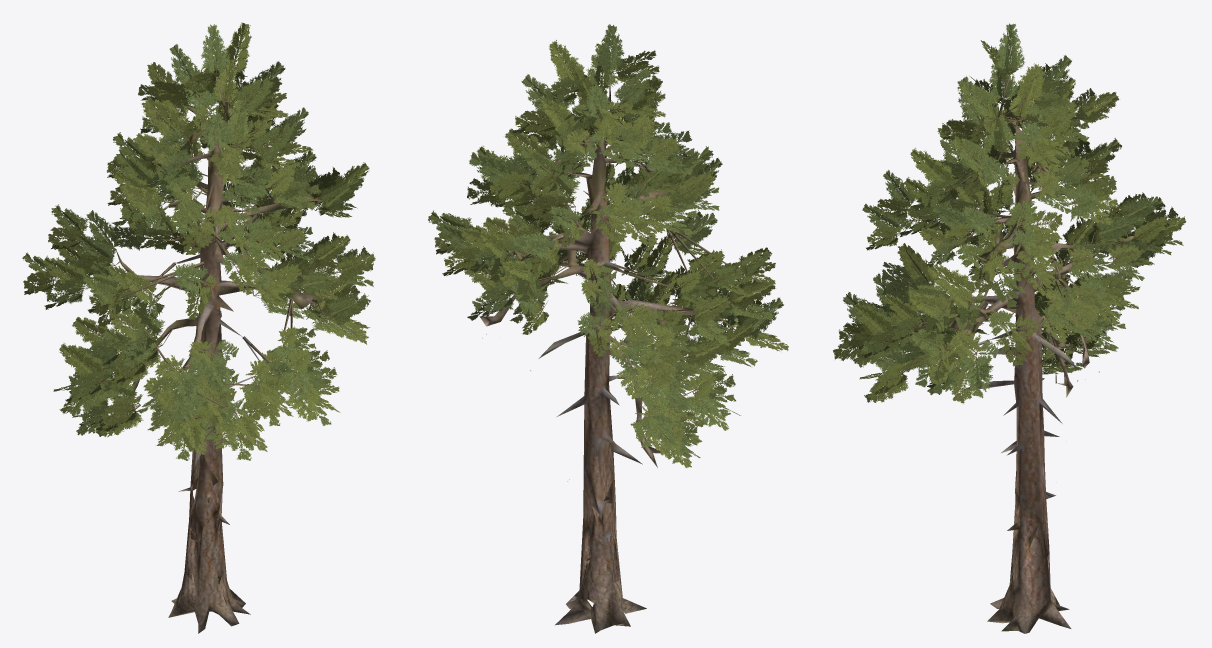
Rendered from solitary-pine-mid.glb.
3 renders of one model, left to right at view 1: azimuth 30°, elevation 25°; view 2: azimuth 150°, elevation 25°; view 3: azimuth 270°, elevation 25°, orthographic.
Visible parts, largest first — view 1: Pine mid master-oriented needle cards, Pine mid source wood and connected twigs; view 2: Pine mid master-oriented needle cards, Pine mid source wood and connected twigs; view 3: Pine mid master-oriented needle cards, Pine mid source wood and connected twigs.
Part boxes in pixels (x1,y1,x2,y2): Pine mid master-oriented needle cards: [22, 22, 375, 460]; Pine mid source wood and connected twigs: [59, 76, 328, 633]; Pine mid master-oriented needle cards: [428, 24, 788, 467]; Pine mid source wood and connected twigs: [479, 74, 735, 633]; Pine mid master-oriented needle cards: [833, 23, 1186, 403]; Pine mid source wood and connected twigs: [904, 76, 1143, 633].
Bounding box in the file's own units: 1.06 × 1.92 × 1.09.
Materials: 2 (2 with a texture image).
